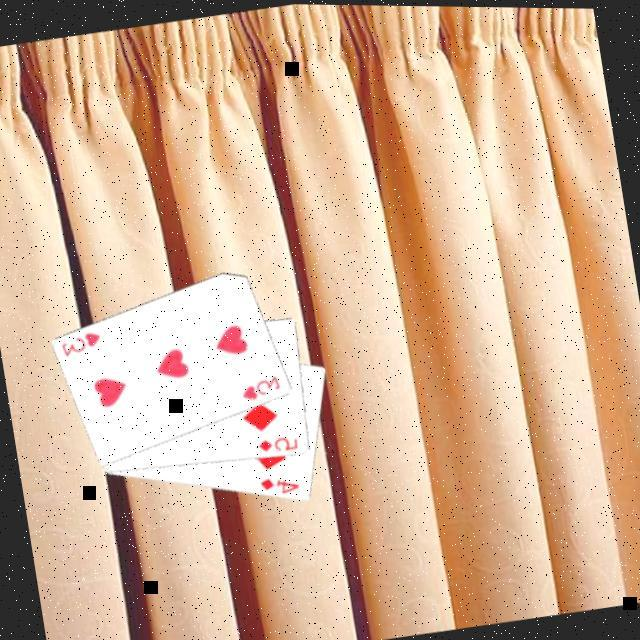3H: (58, 326, 108, 360), (238, 369, 287, 403)
4D: (258, 468, 304, 500)
5D: (256, 430, 303, 458)
